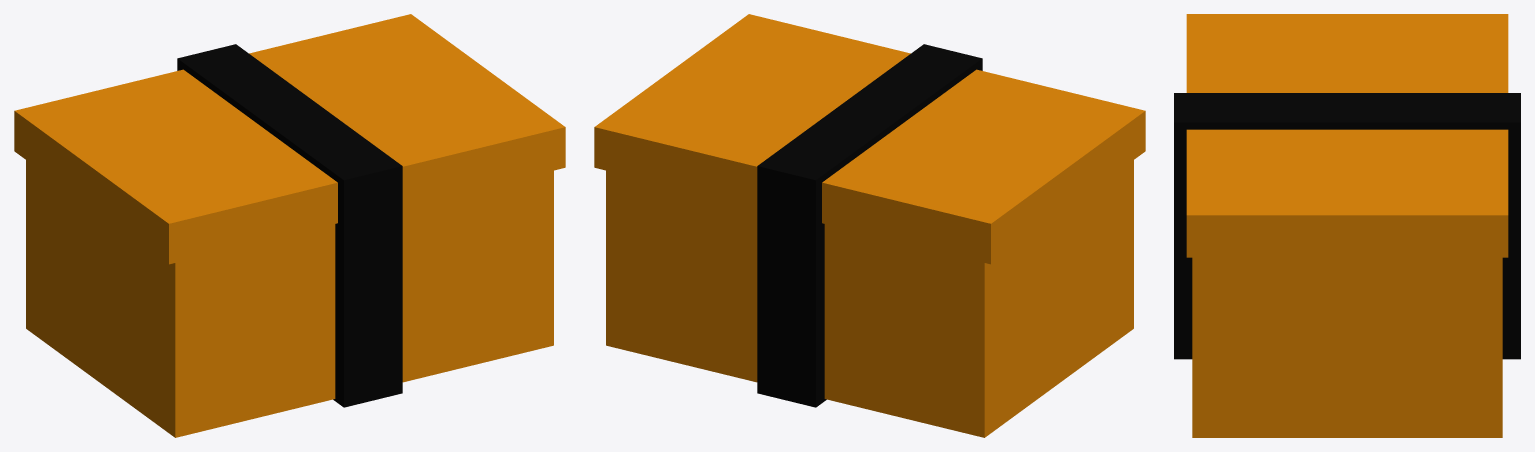
Rendered from Box With Lid and Strap.fbx.
The picture shows the model from 3 angles, left to right: view 1: azimuth 30°, elevation 25°; view 2: azimuth 150°, elevation 25°; view 3: azimuth 270°, elevation 25°; orthographic projection. The views are drawn at different scales.
Visible parts, largest first — view 1: polySurface1, pCube1, pCube2; view 2: polySurface1, pCube1, pCube2; view 3: pCube1, polySurface1, pCube2.
Part boxes in pixels (x1,y1,x2,y2): polySurface1: (26,160,553,437); pCube1: (14,14,565,264); pCube2: (177,44,402,407); polySurface1: (606,160,1133,437); pCube1: (594,14,1145,264); pCube2: (757,44,982,407); pCube1: (1186,14,1508,257); polySurface1: (1192,257,1502,437); pCube2: (1174,93,1520,359).
Bounding box in the file's own units: 1.48 × 0.8118 × 1.08.
